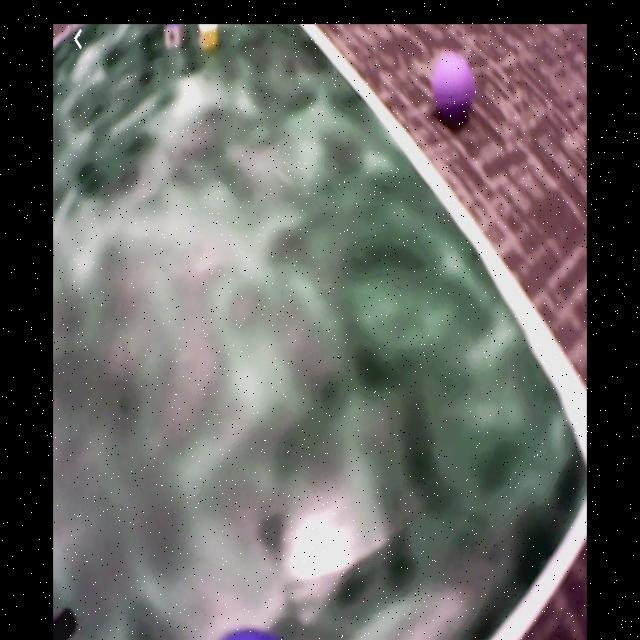ball: (430, 47, 473, 123), (222, 625, 281, 640)
